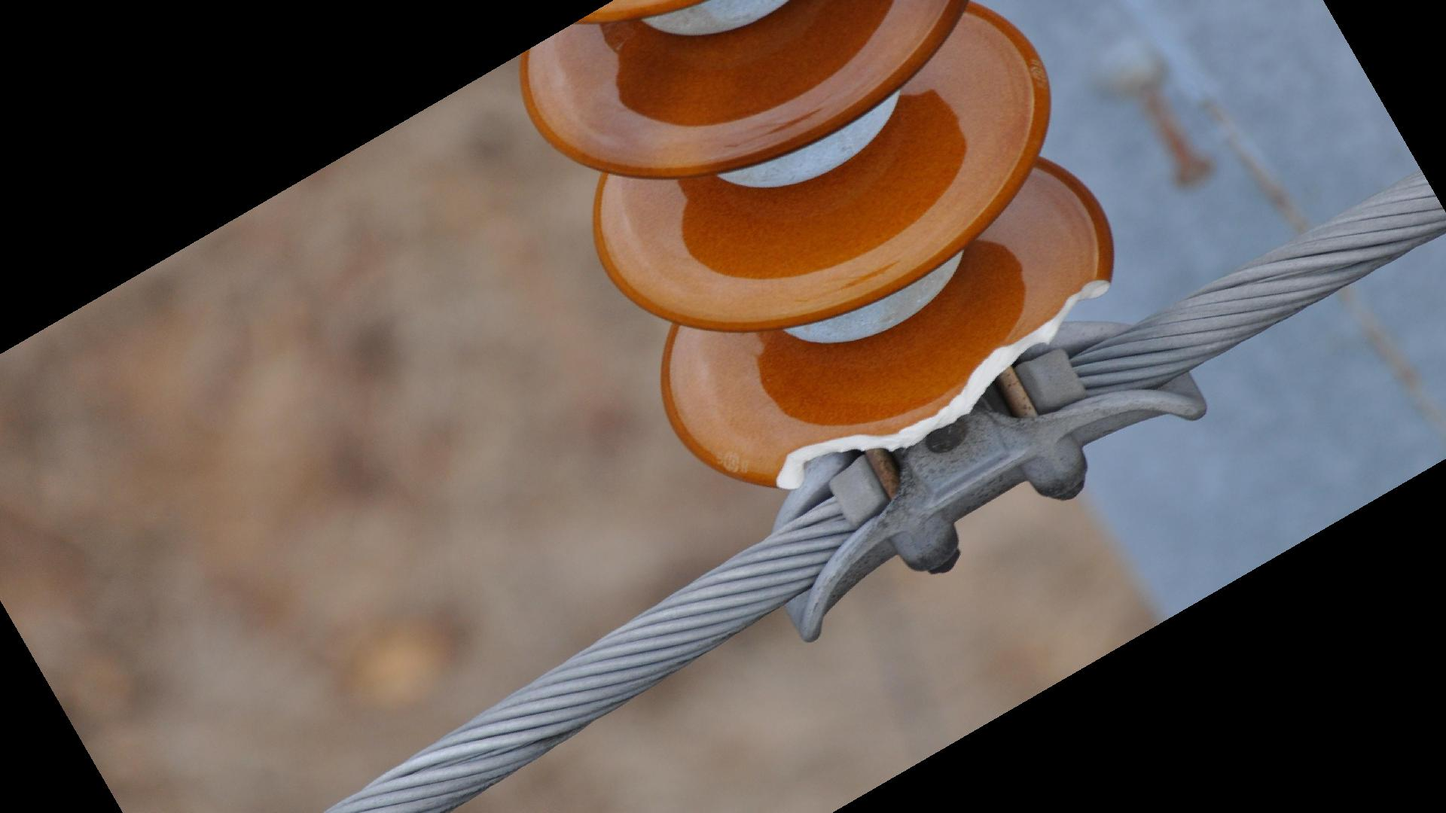insulator: (516, 1, 1121, 504)
insulator_breakage: (764, 266, 1121, 500)
